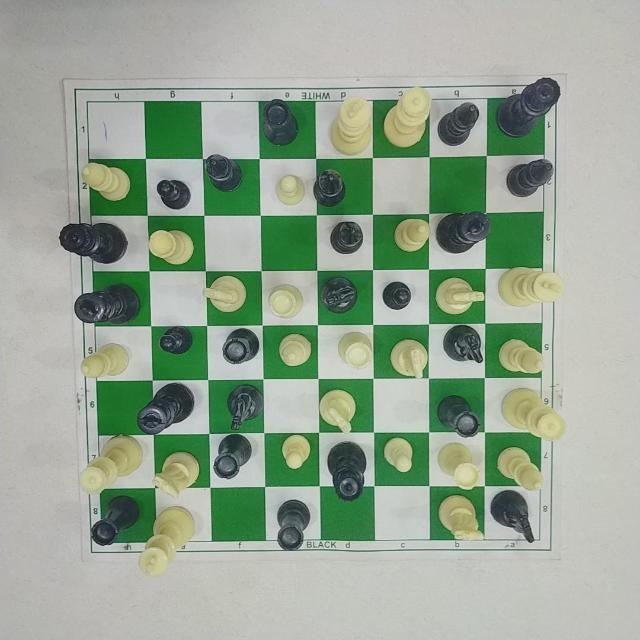black-bishop: (501, 152, 562, 207), (429, 99, 487, 152), (304, 162, 353, 210), (201, 150, 246, 202), (325, 219, 367, 259)
black-king: (126, 374, 203, 438), (68, 275, 150, 332), (433, 203, 497, 259)
black-knight: (487, 486, 545, 552), (213, 378, 269, 431), (312, 272, 361, 322), (438, 323, 486, 371)
black-pawn: (154, 171, 197, 215), (160, 319, 200, 366), (380, 278, 422, 320)
black-queen: (491, 64, 570, 145), (53, 214, 133, 267), (325, 435, 375, 503)
black-rook: (90, 491, 152, 554), (432, 386, 488, 447), (251, 87, 302, 153), (270, 492, 318, 560), (207, 434, 260, 486), (215, 323, 262, 373)
white-bishop: (79, 149, 140, 211), (71, 339, 139, 389), (488, 439, 547, 495), (498, 328, 547, 382), (274, 328, 319, 377), (390, 211, 430, 257)
white-king: (130, 496, 207, 581), (491, 259, 570, 313), (328, 86, 376, 156)
white-knight: (433, 486, 489, 554), (191, 268, 249, 322), (148, 445, 200, 501), (383, 330, 435, 385), (426, 270, 482, 320), (308, 382, 361, 434)
white-pawn: (377, 425, 425, 480), (280, 427, 317, 472), (271, 166, 305, 212)
white-queen: (73, 422, 149, 502), (498, 384, 580, 448), (376, 73, 432, 153)
white-rook: (140, 222, 204, 278), (430, 439, 483, 495), (332, 324, 381, 376), (264, 278, 313, 326)
